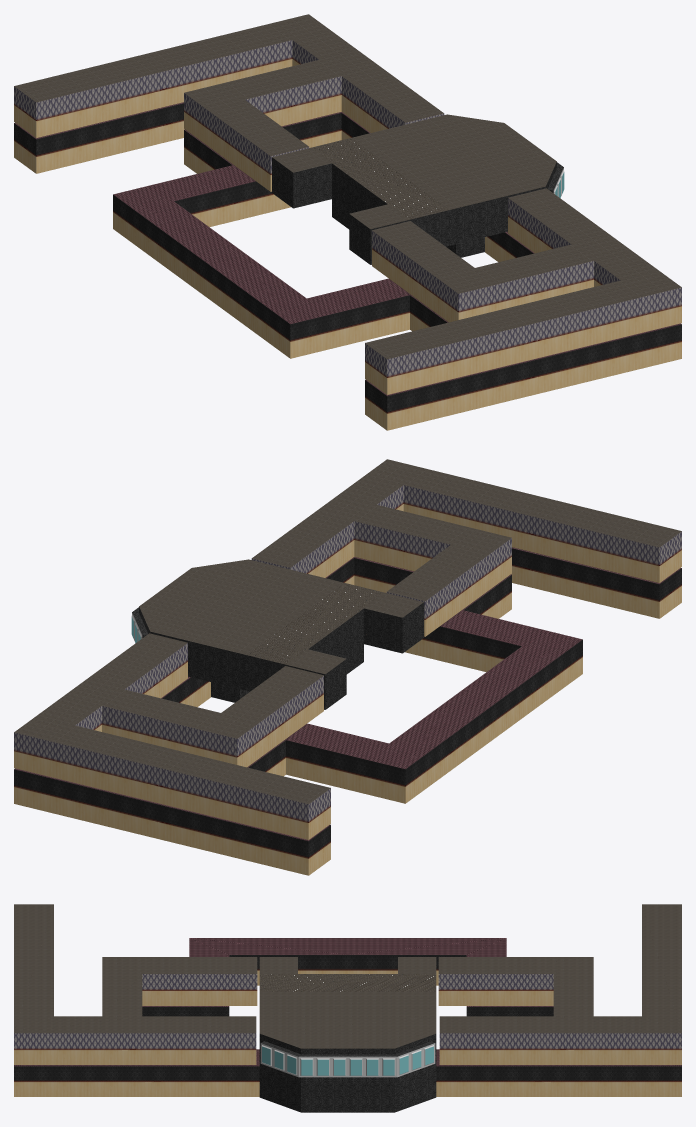
File: Osobniak.fbx
3 renders of one model, top to bottom at view 1: azimuth 30°, elevation 25°; view 2: azimuth 150°, elevation 25°; view 3: azimuth 270°, elevation 25°, orthographic. The views are drawn at different scales.
Parts seen in each view (by area): view 1: Koridor1Et, KoridorLK2Et, Up.4, KoridorRK2Et, Up, Up.2, Up.3, Wals; view 2: Koridor1Et, KoridorRK2Et, Up.4, KoridorLK2Et, Up.2, Up, Up.3, Wals; view 3: Koridor1Et, Up.4, Up, Up.2, KoridorRK2Et, KoridorLK2Et, Wals, Up.3, Glas, Window.
Boxes of the visible parts, box(x1,y1,x2,y2) form: Koridor1Et: box(14, 103, 681, 430); KoridorLK2Et: box(365, 198, 681, 394); Up.4: box(272, 114, 556, 229); KoridorRK2Et: box(14, 40, 444, 191); Up: box(14, 14, 443, 155); Up.2: box(365, 188, 681, 359); Up.3: box(14, 102, 681, 396); Wals: box(272, 157, 563, 264); Koridor1Et: box(14, 548, 681, 875); KoridorRK2Et: box(14, 643, 330, 839); Up.4: box(139, 559, 423, 674); KoridorLK2Et: box(251, 485, 681, 636); Up.2: box(252, 459, 681, 600); Up: box(14, 633, 330, 804); Up.3: box(14, 547, 681, 841); Wals: box(132, 602, 423, 709); Koridor1Et: box(14, 955, 681, 1096); Up.4: box(259, 957, 436, 1048); Up: box(438, 904, 681, 1033); Up.2: box(14, 904, 257, 1033); KoridorRK2Et: box(438, 974, 681, 1064); KoridorLK2Et: box(14, 974, 257, 1064); Wals: box(259, 1034, 436, 1112); Up.3: box(14, 938, 681, 1066); Glas: box(262, 1046, 433, 1075); Window: box(260, 1043, 435, 1077).
Size of the model in its own units: 2959 by 600 by 5680.
